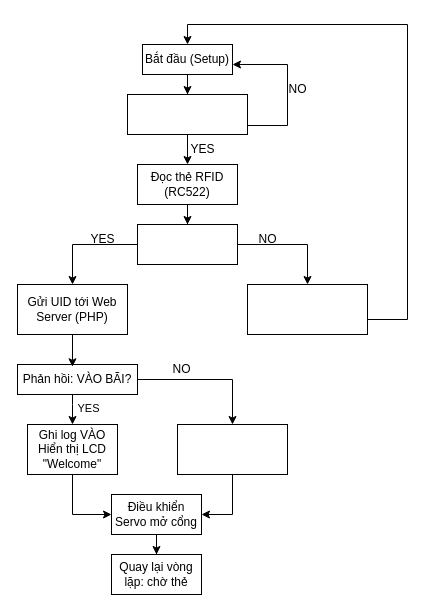
Some shapes in this 433 by 612 pixel diagram are drawn without their labels. The shapes that lost their labels are listed below. From the top down, each one's box as (x1, y1, x2, y2) in pixels, then its label:
(126, 94, 248, 134): Kết nối WiFi thành công?
(136, 224, 238, 264): UID đã đọc có hợp lệ không?
(246, 284, 368, 334): Bật Buzzer cảnh báo Hiển thị: "Invalid Card"
(176, 424, 288, 474): Ghi log RỜI BÃI Hiển thị LCD "See you later"
